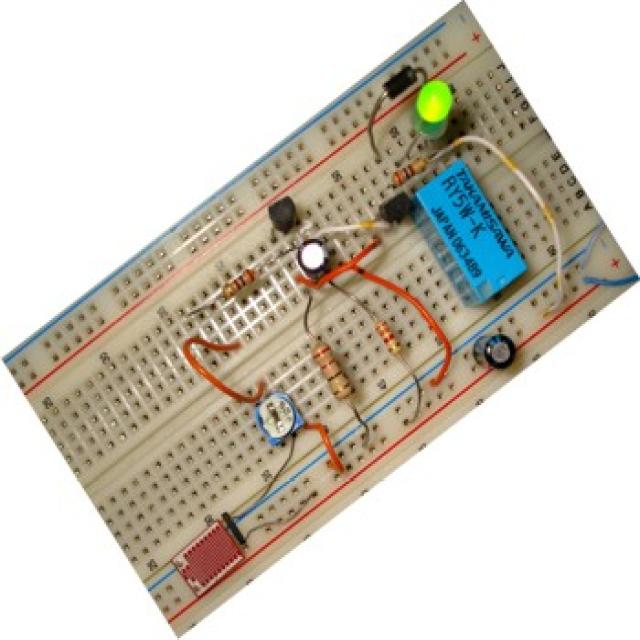Capacitor Electrolitico: (312, 338, 355, 404), (375, 314, 406, 362), (388, 156, 431, 188), (222, 266, 258, 297)
